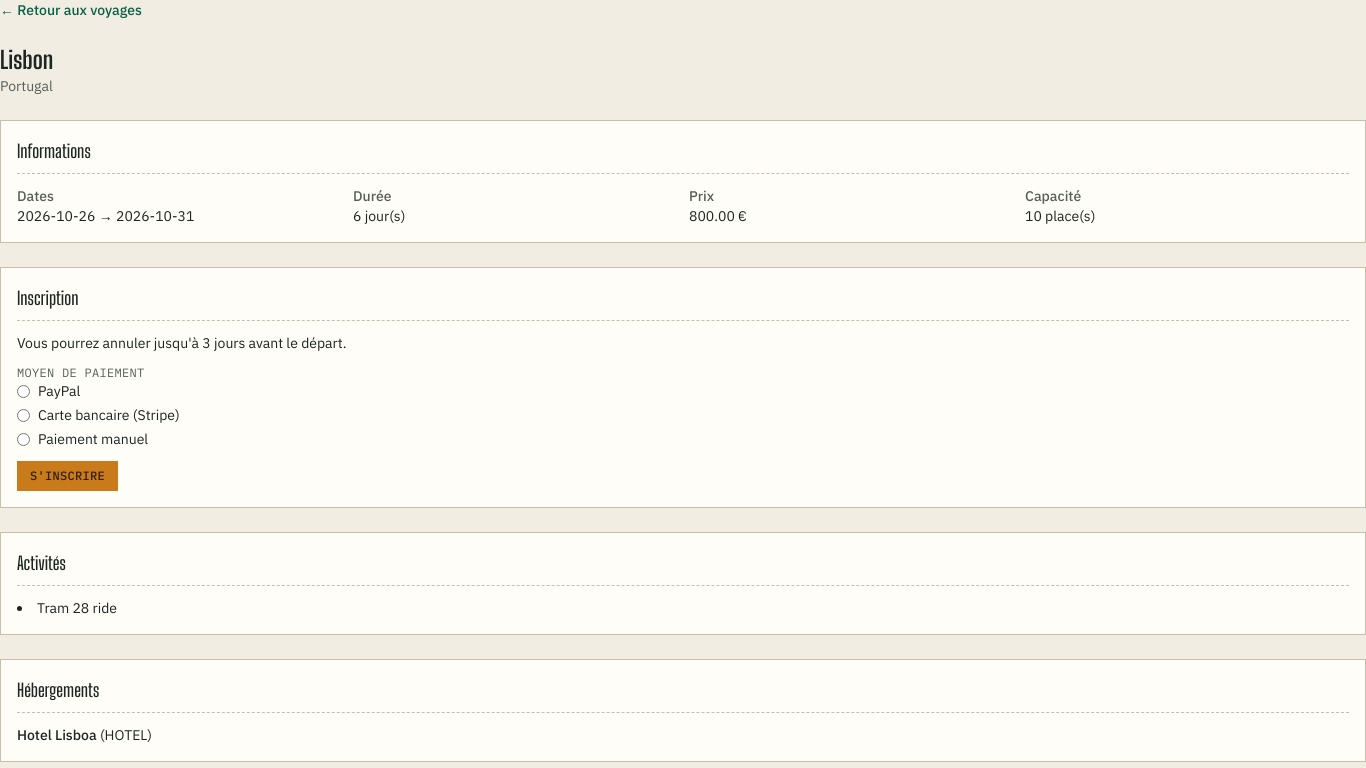
TravelDetailComponent › subscribing › subscribes and then offers to unsubscribe
Click the button "S'inscrire" at point(68, 476), box [17,461,118,491]
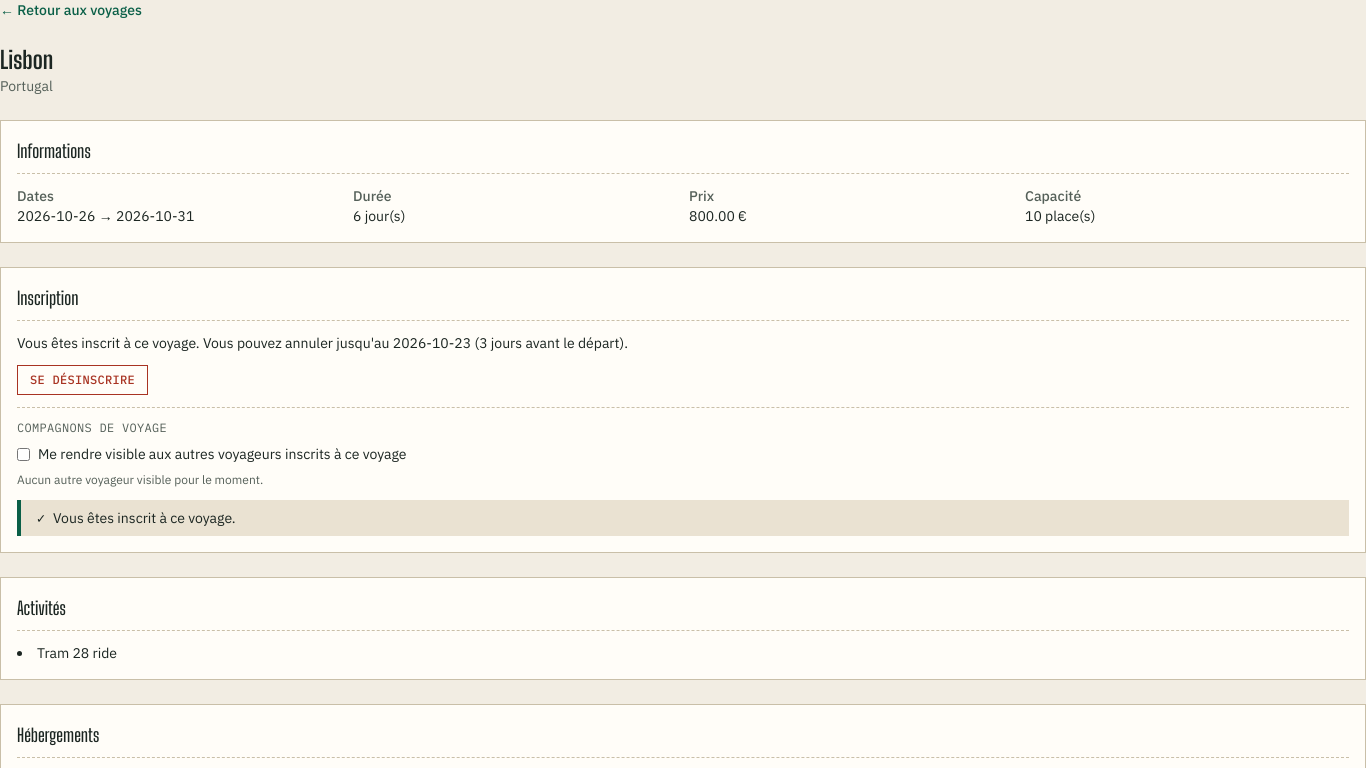
Check: the button "Se désinscrire" is shown, box [17,365,148,395]
Check: the text "Vous êtes inscrit à ce voyage." is shown, box [17,334,203,352]
